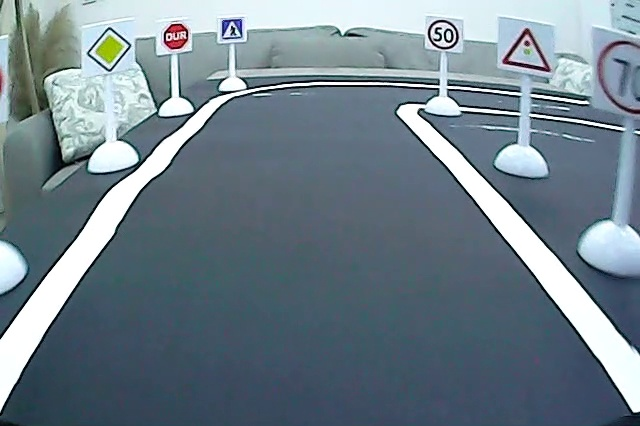pedestrian crossing: (218, 16, 245, 42)
red light: (499, 20, 554, 74)
speed limit 50: (426, 17, 462, 51)
stop sign: (161, 22, 191, 51)
